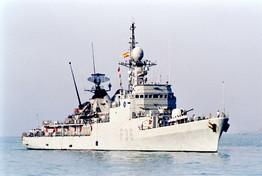warship: (21, 16, 231, 149)
